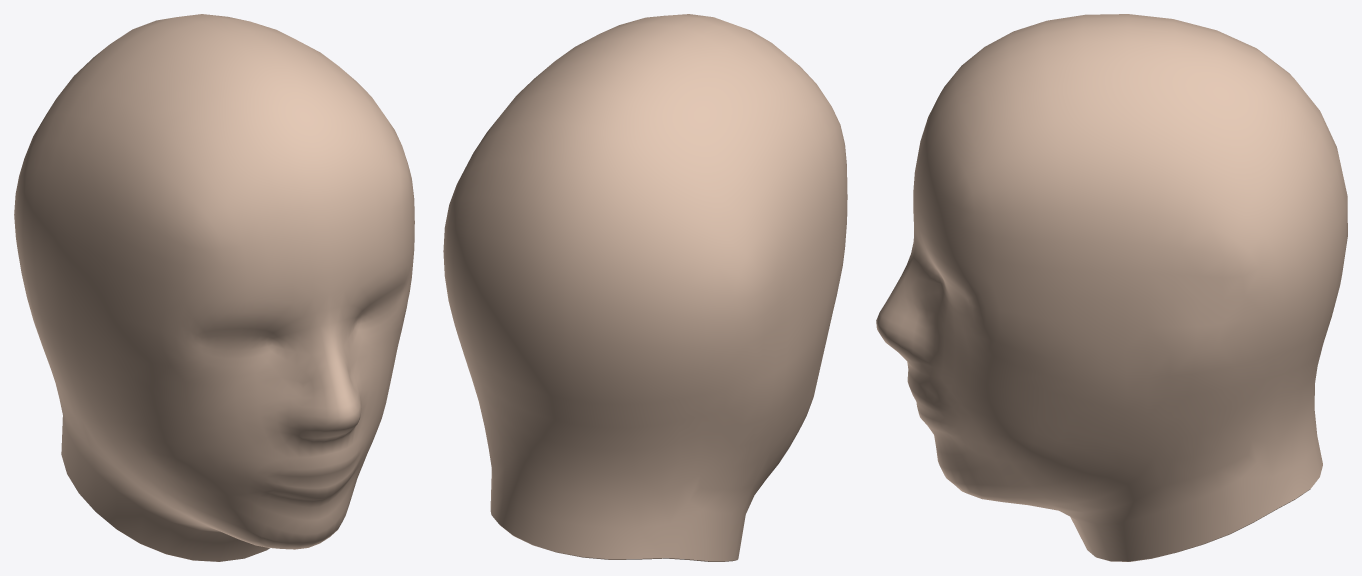
Rendered from FemaleMannequinHead.fbx.
The picture shows the model from 3 angles, left to right: view 1: azimuth 30°, elevation 25°; view 2: azimuth 150°, elevation 25°; view 3: azimuth 270°, elevation 25°; orthographic projection.
Parts seen in each view (by area): view 1: MannequinHeadFeamale; view 2: MannequinHeadFeamale; view 3: MannequinHeadFeamale.
Boxes of the visible parts, x1,y1,x2,y2 form: MannequinHeadFeamale: [14, 14, 414, 561]; MannequinHeadFeamale: [443, 14, 847, 561]; MannequinHeadFeamale: [876, 14, 1347, 561].
Bounding box in the file's own units: 0.1647 × 0.2548 × 0.2122.
